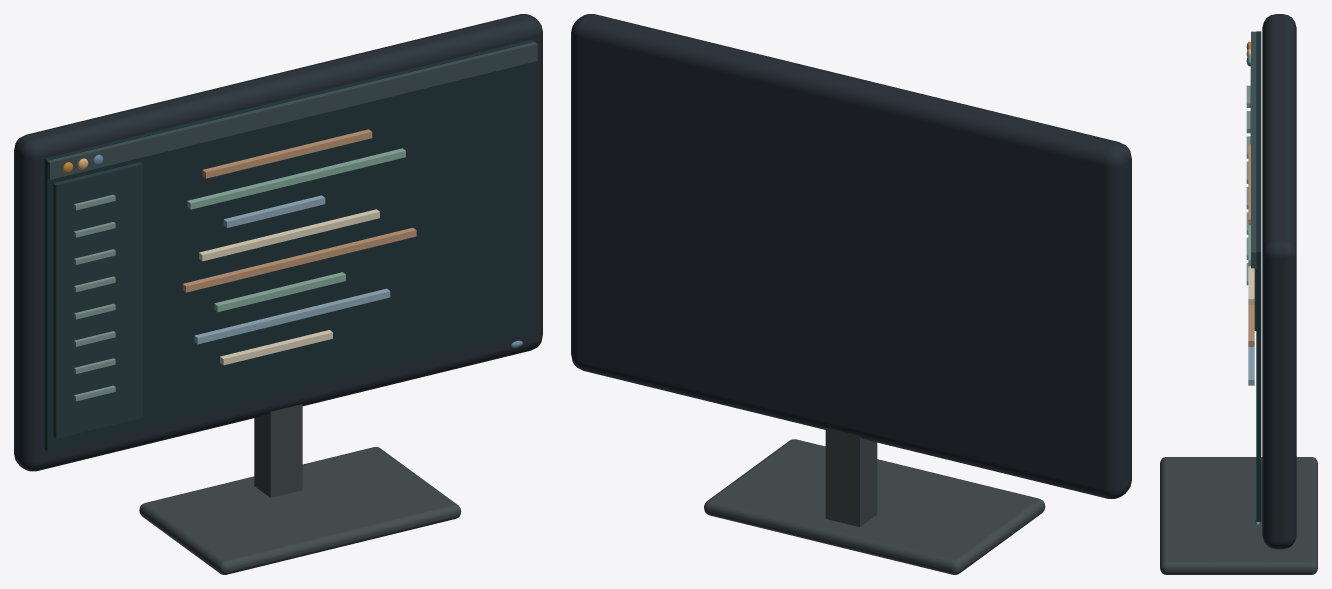
The model's file is monitor.glb.
3 views of the same model, side by side, from view 1: azimuth 30°, elevation 25°; view 2: azimuth 150°, elevation 25°; view 3: azimuth 270°, elevation 25° (orthographic). The views are drawn at different scales.
Size of the model in its own units: 1.38 by 1.08 by 0.39.
